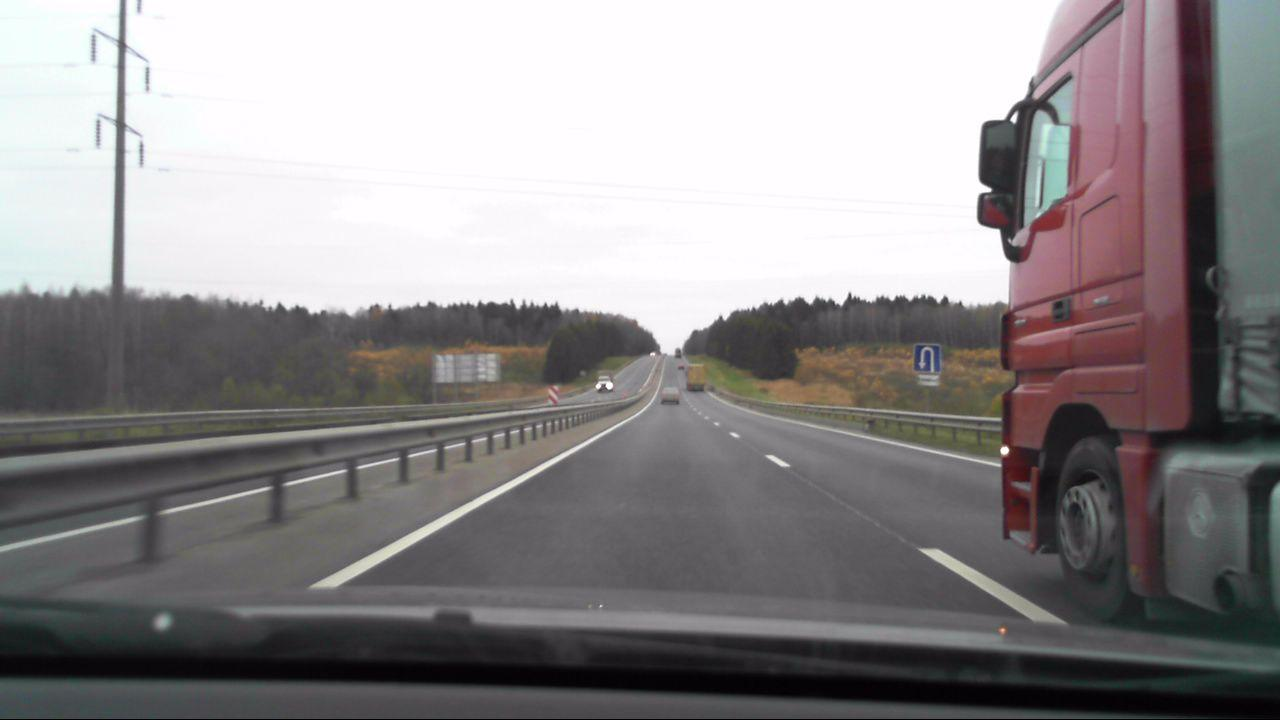6_3_1: (914, 344, 941, 373)
8_1_1: (918, 374, 942, 387)
